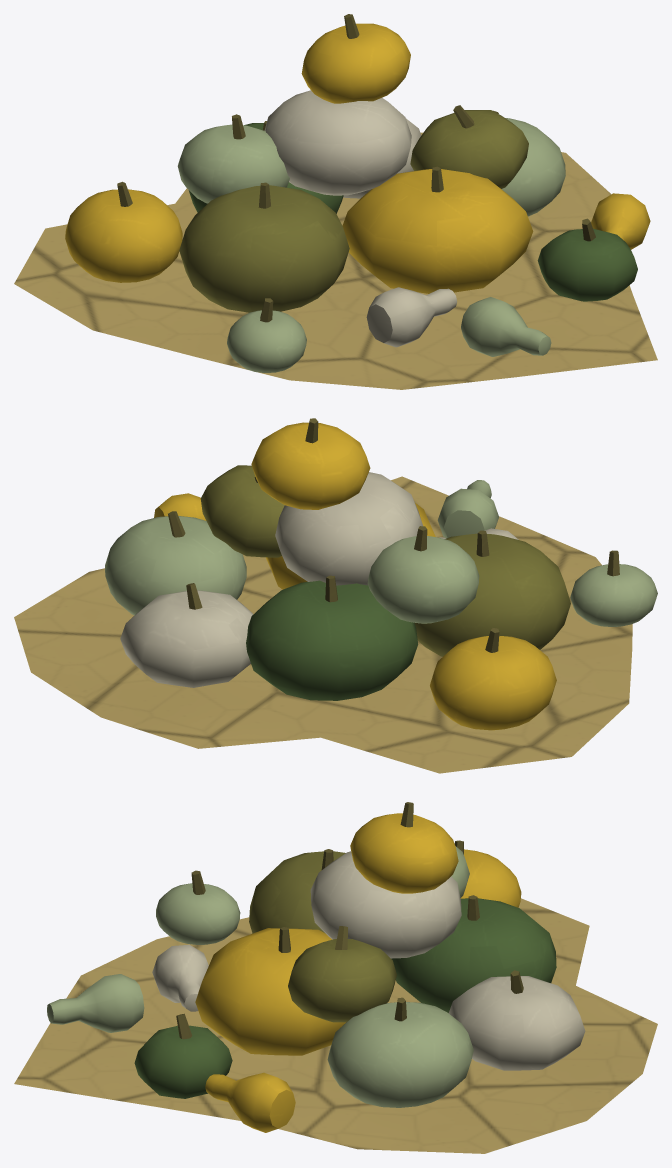
File: pumpkin_pile.glb
The picture shows the model from 3 angles, top to bottom: view 1: azimuth 30°, elevation 25°; view 2: azimuth 150°, elevation 25°; view 3: azimuth 270°, elevation 25°; orthographic projection. The views are drawn at different scales.
Visible parts, largest first — view 1: pumpkin_pile; view 2: pumpkin_pile; view 3: pumpkin_pile.
Part boxes in pixels (x1,y1,x2,y2): pumpkin_pile: [14, 14, 657, 389]; pumpkin_pile: [14, 418, 657, 773]; pumpkin_pile: [14, 802, 657, 1153].
Bounding box in the file's own units: 2.18 × 0.8688 × 2.22.
Materials: 7 (7 with a texture image).
